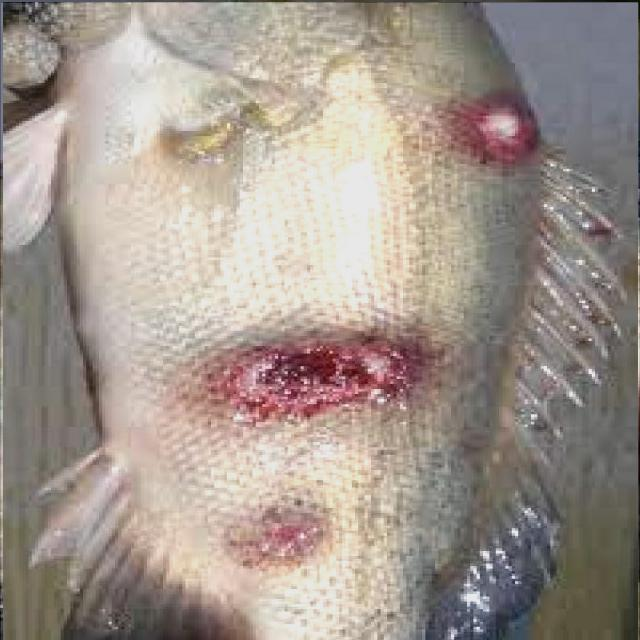EUS Disease: (1, 3, 639, 640), (71, 97, 573, 507)
